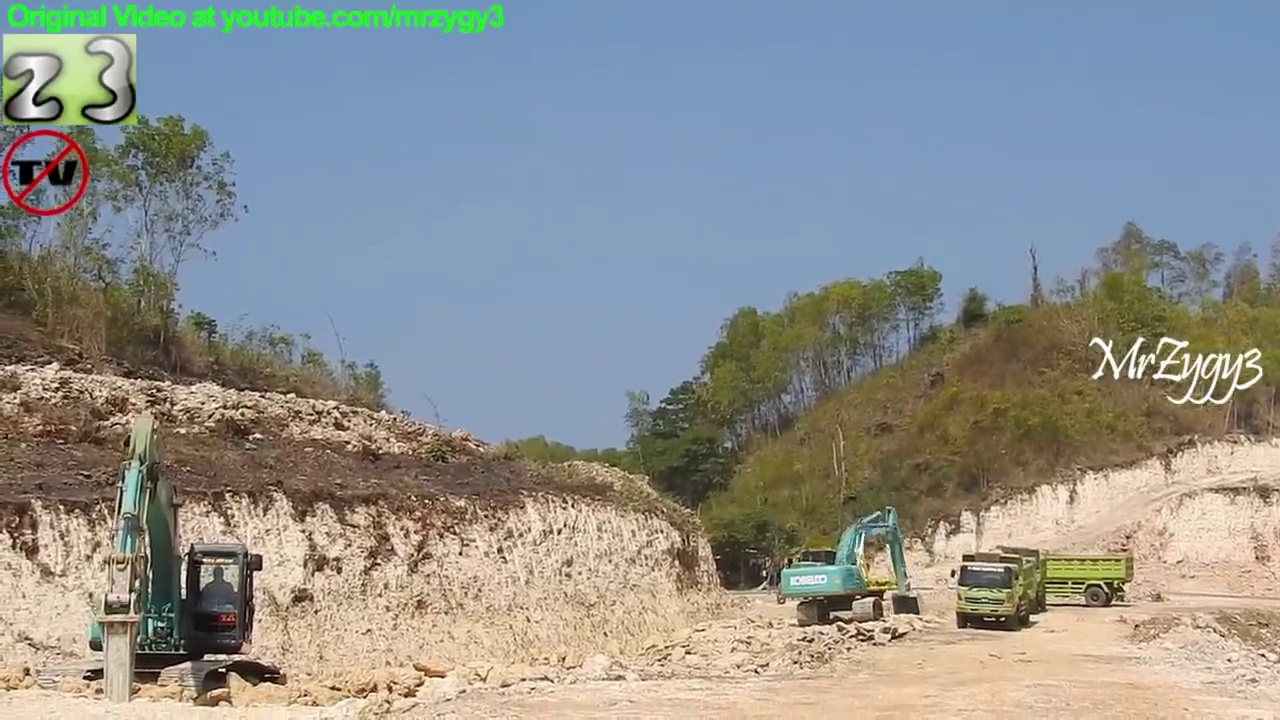excavator: (775, 500, 924, 628)
excavator breaker: (37, 412, 293, 712)
truck: (984, 547, 1138, 609), (951, 552, 1038, 628), (964, 544, 1047, 620)
